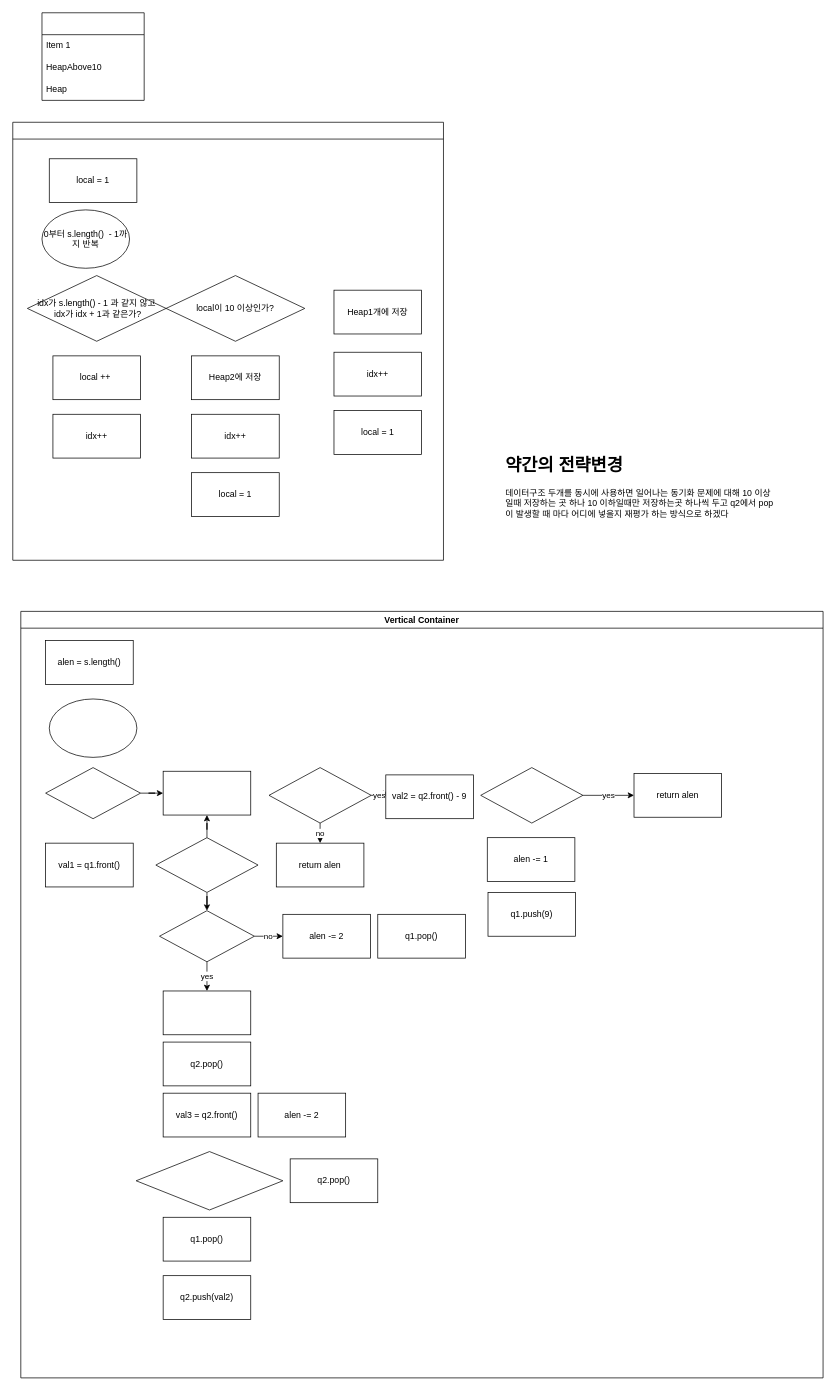
This 836x1391 diagram has some shape labels left out. The box of each missing label's shape, as (x1, y1, x2, y2) in pixels:
k가 0보다 큰동안 반복: (49, 698, 137, 757)
List: (41, 12, 144, 100)
q1 = 101: (162, 771, 251, 815)
q1이 비어있지 않은가?: (45, 767, 141, 819)
q2가 비어있지 않은가?: (268, 767, 371, 823)
q2의 size가 2 이상인가: (159, 910, 254, 962)
val1이 k보다 큰가?: (155, 837, 258, 892)
val1이 val2 + val3보다 큰가?: (135, 1151, 283, 1210)
val2 = q2.front(): (162, 990, 251, 1035)
val2가 k보다 큰가?: (480, 767, 583, 823)
저장: (12, 122, 443, 560)
